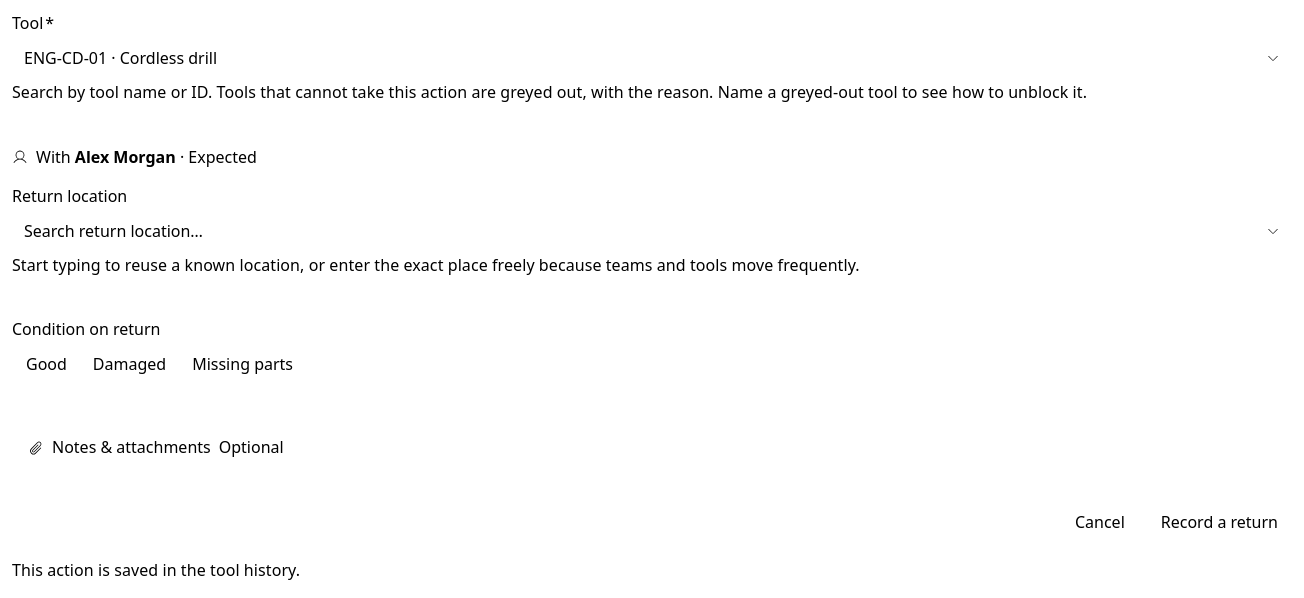
Test: Tools interaction controls › refuses a return with no return location
The image size is (1304, 598).
Step 1. Click the button "Record a return" → click(1219, 522), box left=1147, top=504, right=1292, bottom=540
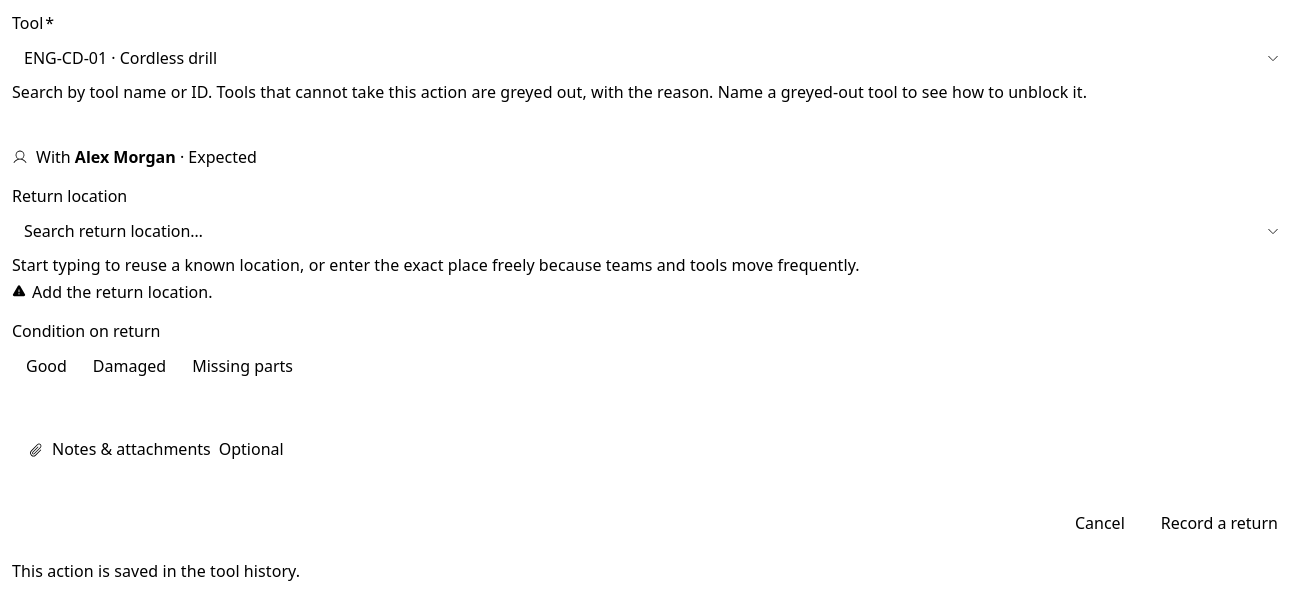
Expected: the message reads "Add the return location.", left=32, top=281, right=213, bottom=303
